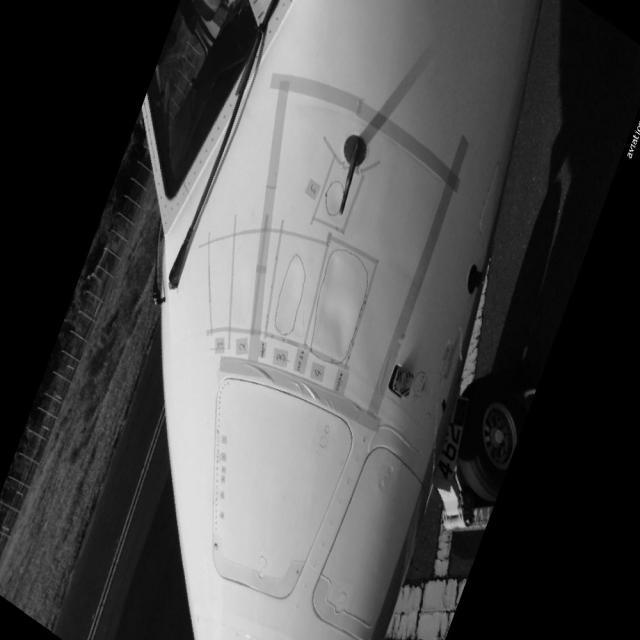Dent: (318, 254, 361, 357)
